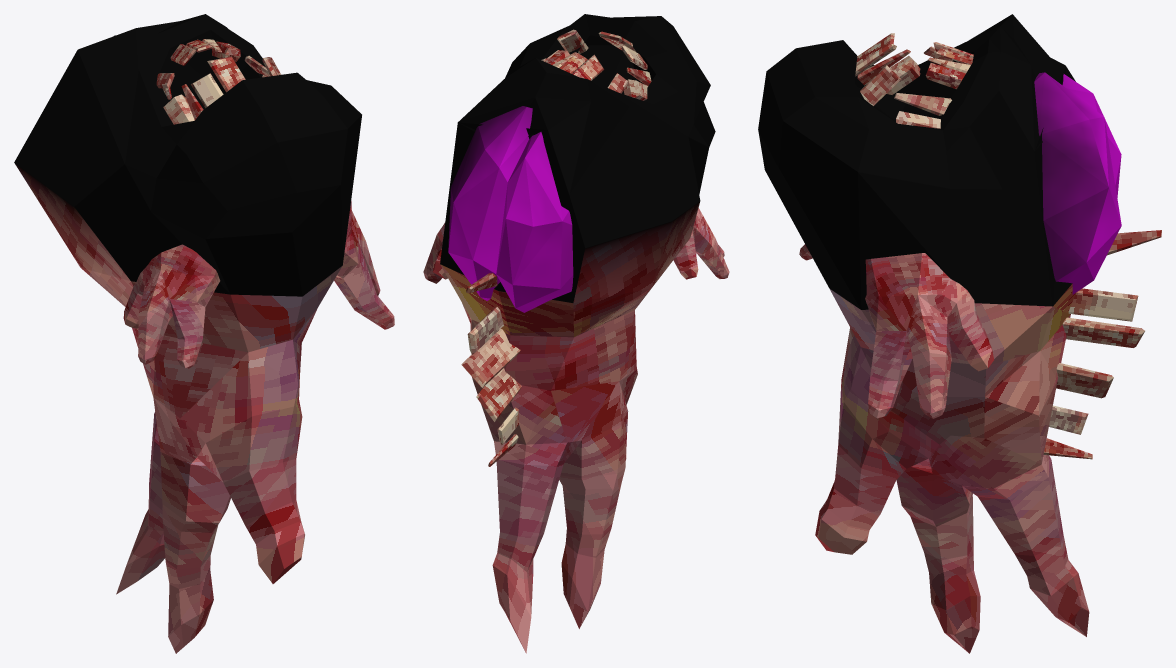
Rendered from item_fish_redacted.glb.
3 views of the same model, side by side, from view 1: azimuth 30°, elevation 25°; view 2: azimuth 150°, elevation 25°; view 3: azimuth 270°, elevation 25° (orthographic). The views are drawn at different scales.
Parts seen in each view (by area): view 1: fish_abomination_submesh_0; view 2: fish_abomination_submesh_0, fish_abomination_submesh_1; view 3: fish_abomination_submesh_0, fish_abomination_submesh_1.
Boxes of the visible parts, x1=… form: fish_abomination_submesh_0: x1=14, y1=14, x2=394, y2=653; fish_abomination_submesh_0: x1=423, y1=14, x2=729, y2=653; fish_abomination_submesh_1: x1=448, y1=106, x2=573, y2=312; fish_abomination_submesh_0: x1=758, y1=14, x2=1161, y2=653; fish_abomination_submesh_1: x1=1034, y1=72, x2=1121, y2=294.
Bounding box in the file's own units: 0.1716 × 0.3229 × 0.1908.
2 materials, 2 textured.
